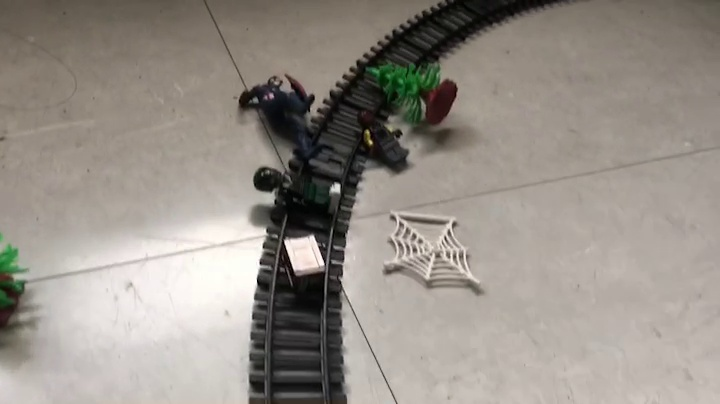box: (281, 233, 325, 296)
people: (240, 73, 328, 167), (253, 166, 342, 221), (356, 110, 411, 173)
tree: (364, 61, 460, 126)
web: (383, 208, 482, 290)
